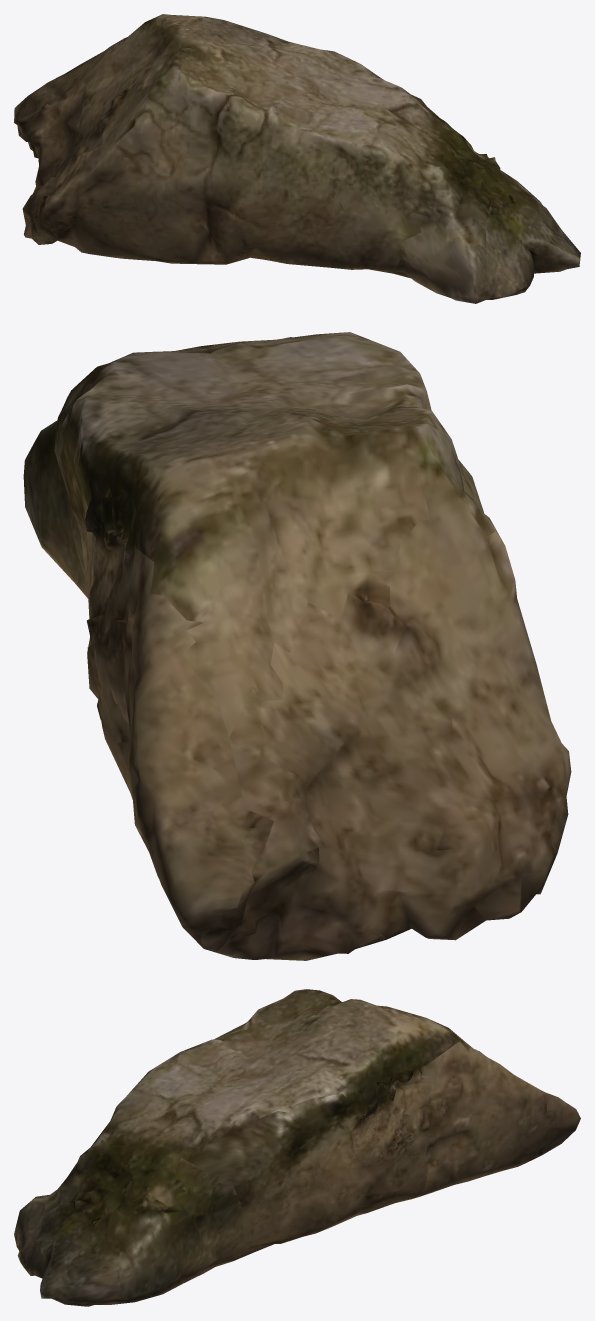
The model's file is rock_moss_set_01-rock02.glb.
3 renders of one model, top to bottom at view 1: azimuth 30°, elevation 25°; view 2: azimuth 150°, elevation 25°; view 3: azimuth 270°, elevation 25°, orthographic. The views are drawn at different scales.
Visible parts, largest first — view 1: rock_moss_set_01_rock02; view 2: rock_moss_set_01_rock02; view 3: rock_moss_set_01_rock02.
Boxes of the visible parts, box(x1,y1,x2,y2) form: rock_moss_set_01_rock02: box(14, 14, 580, 303); rock_moss_set_01_rock02: box(23, 332, 571, 960); rock_moss_set_01_rock02: box(14, 989, 580, 1306).
Bounding box in the file's own units: 2.66 × 1.26 × 3.26.
Materials: 1 (1 with a texture image).
